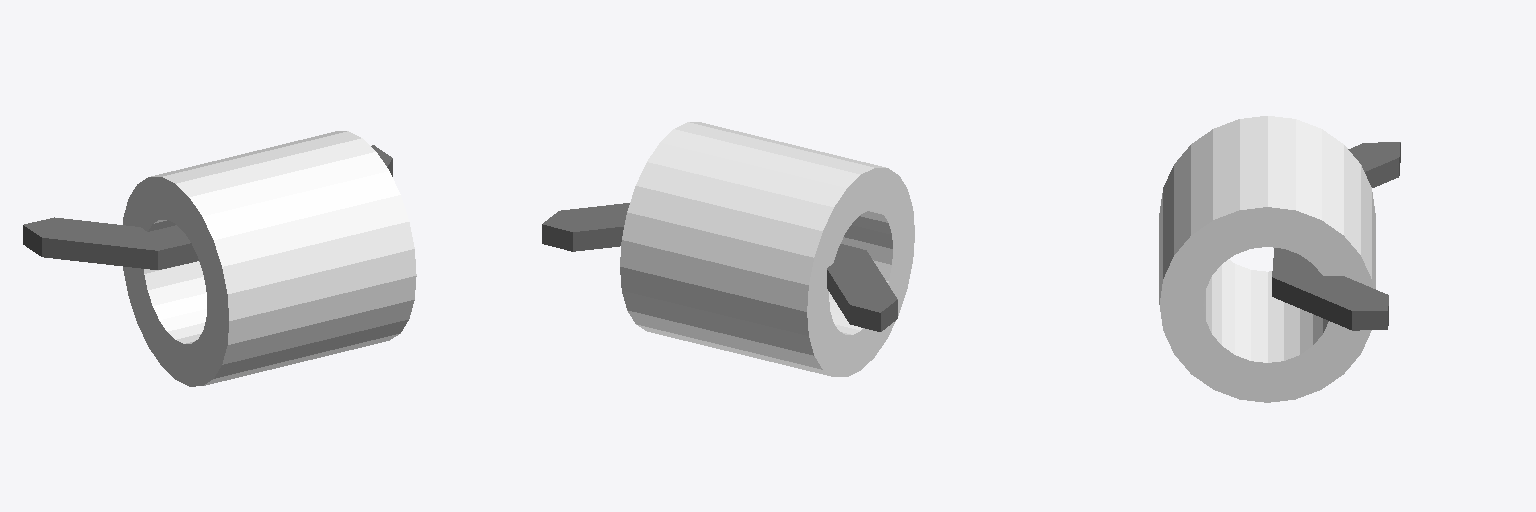
File: Toilet-Paper.obj
3 views of the same model, side by side, from view 1: azimuth 30°, elevation 25°; view 2: azimuth 150°, elevation 25°; view 3: azimuth 270°, elevation 25° (orthographic).
Visible parts, largest first — view 1: mergedBlocks; view 2: mergedBlocks; view 3: mergedBlocks.
Part boxes in pixels (x1,y1,x2,y2): mergedBlocks: (23, 131, 416, 386); mergedBlocks: (542, 122, 914, 376); mergedBlocks: (1159, 116, 1400, 402).
Size of the model in its own units: 0.3695 by 0.2 by 0.2231.